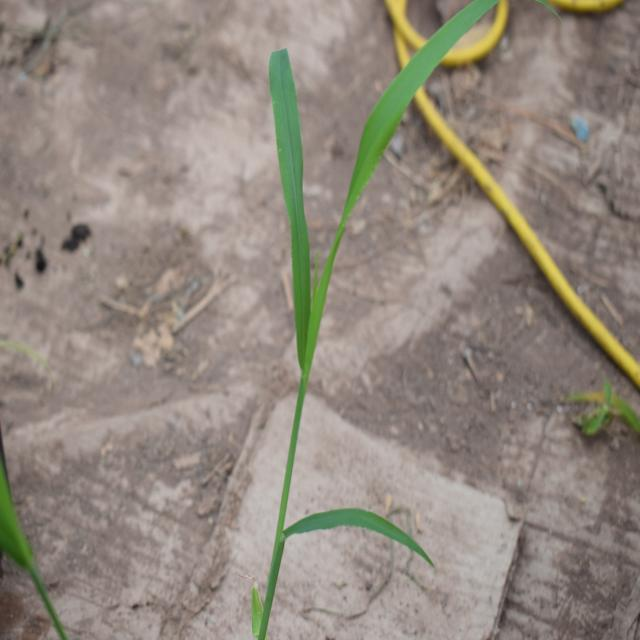crabgrass: (253, 0, 478, 602)
